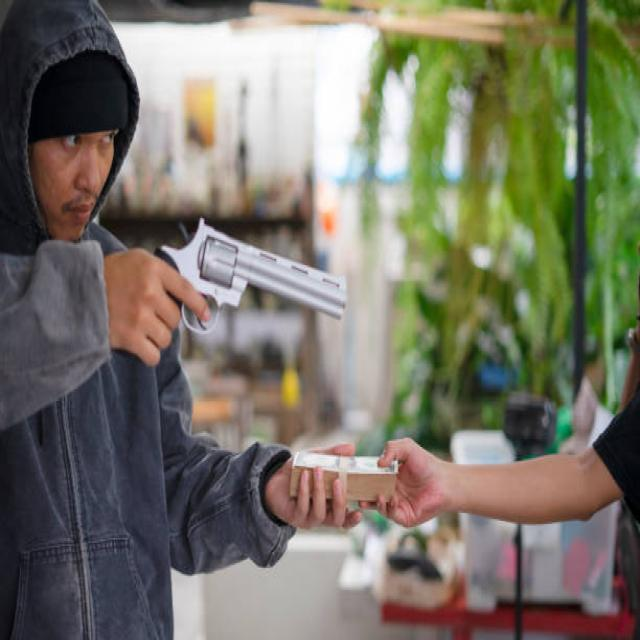pistol: (144, 221, 348, 361)
